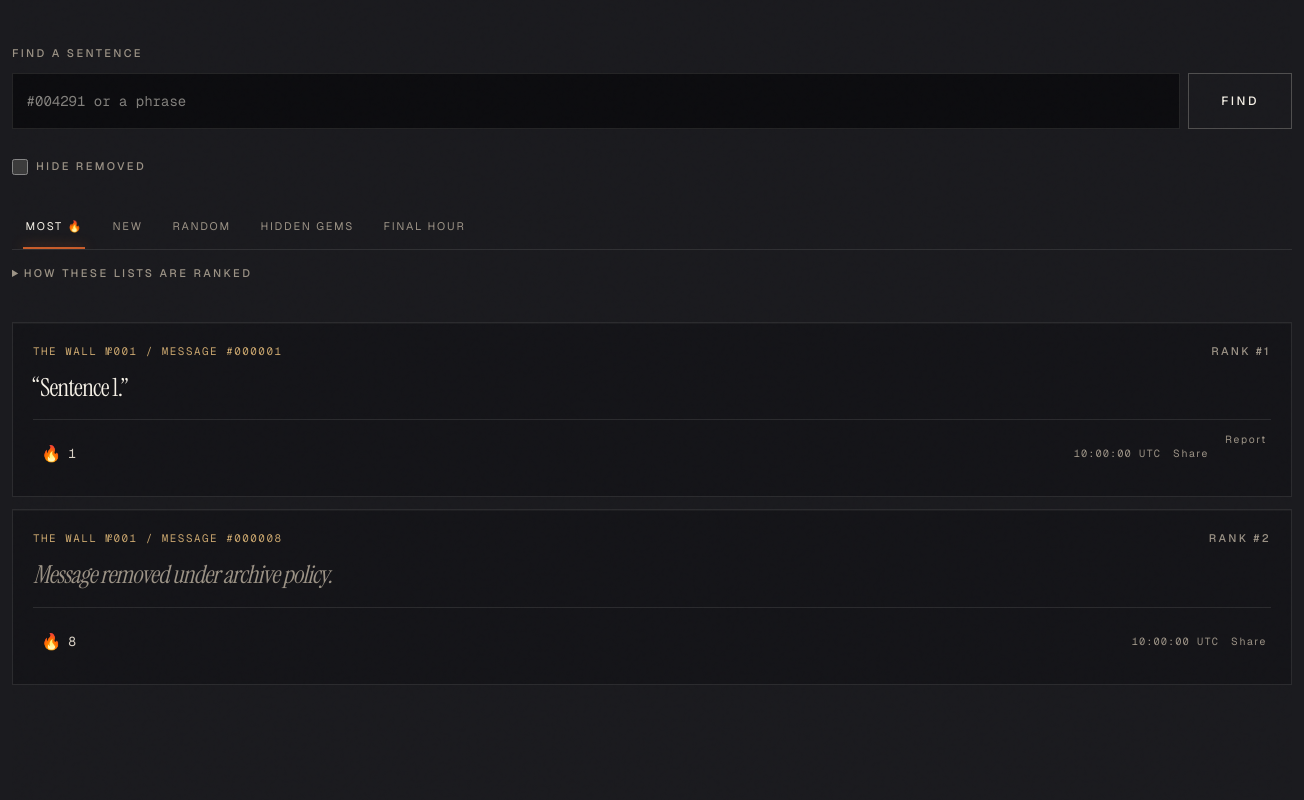
it: archive browser › hides removed sentences without dropping their numbers from the monument
expect the text "Rank #2" is shown: met, box top-left (1209, 530), bottom-right (1271, 547)
Click the checkbox labelled "Hide removed". click: [20, 167]
box: top-left (12, 159), bottom-right (28, 175)
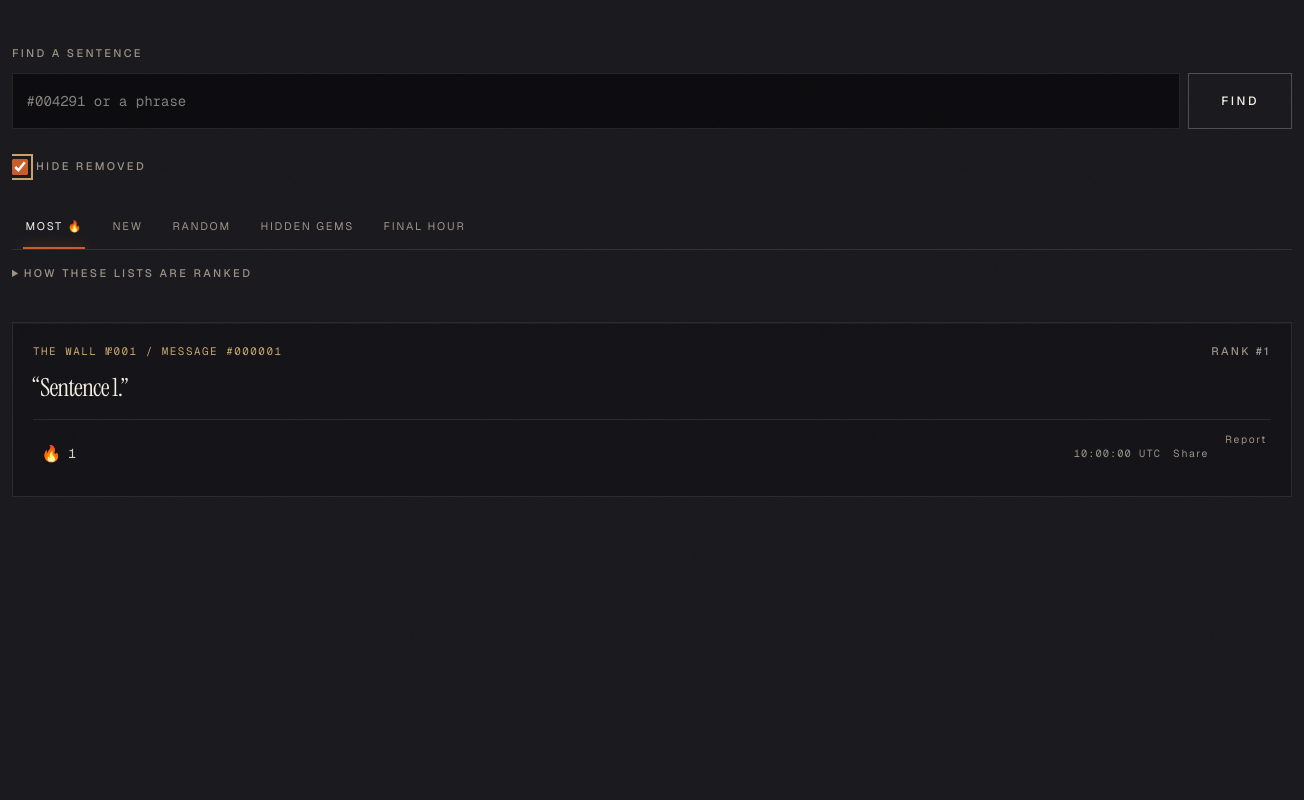
expect the text "“Sentence 1.”" is shown: met, box top-left (33, 370), bottom-right (128, 404)
expect the text "Message removed under archive policy." is gone: met
